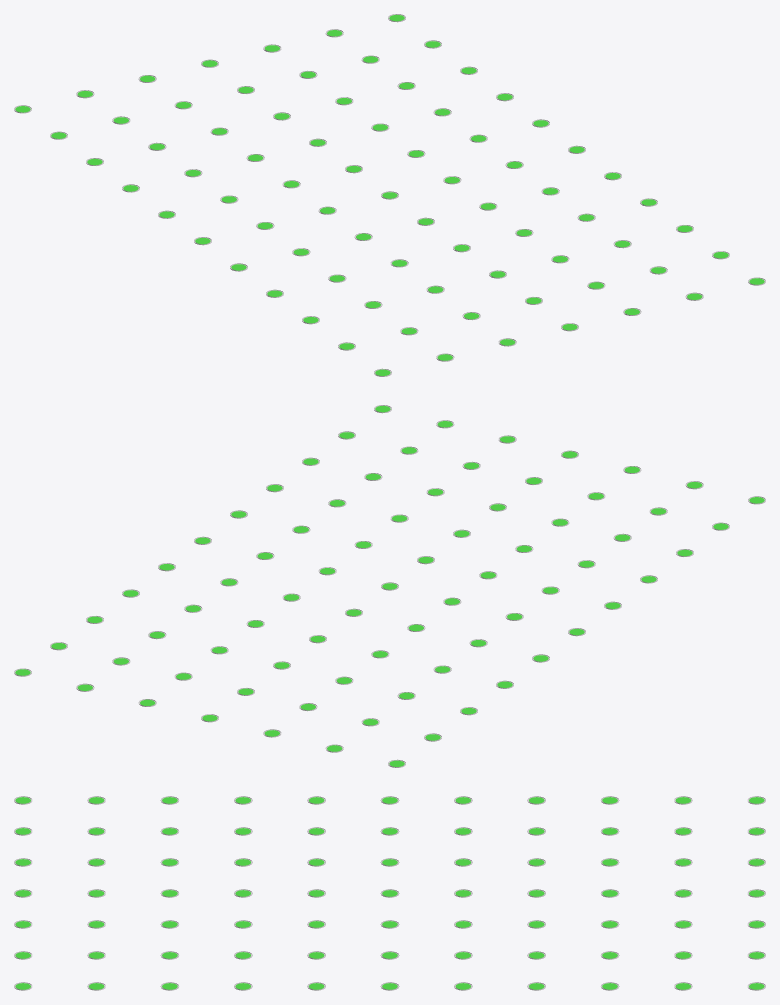
Rendered from O20296_Lights.dae.
3 views of the same model, one above another, from view 1: azimuth 30°, elevation 25°; view 2: azimuth 150°, elevation 25°; view 3: azimuth 270°, elevation 25° (orthographic).
Visible parts, largest first — view 1: Lights; view 2: Lights; view 3: Lights.
Boxes of the visible parts, bbox=[...] form: Lights: bbox=[14, 14, 765, 376]; Lights: bbox=[14, 405, 765, 767]; Lights: bbox=[14, 796, 765, 990].
Bounding box in the file's own units: 5.7 × 9.35 × 0.00781.
